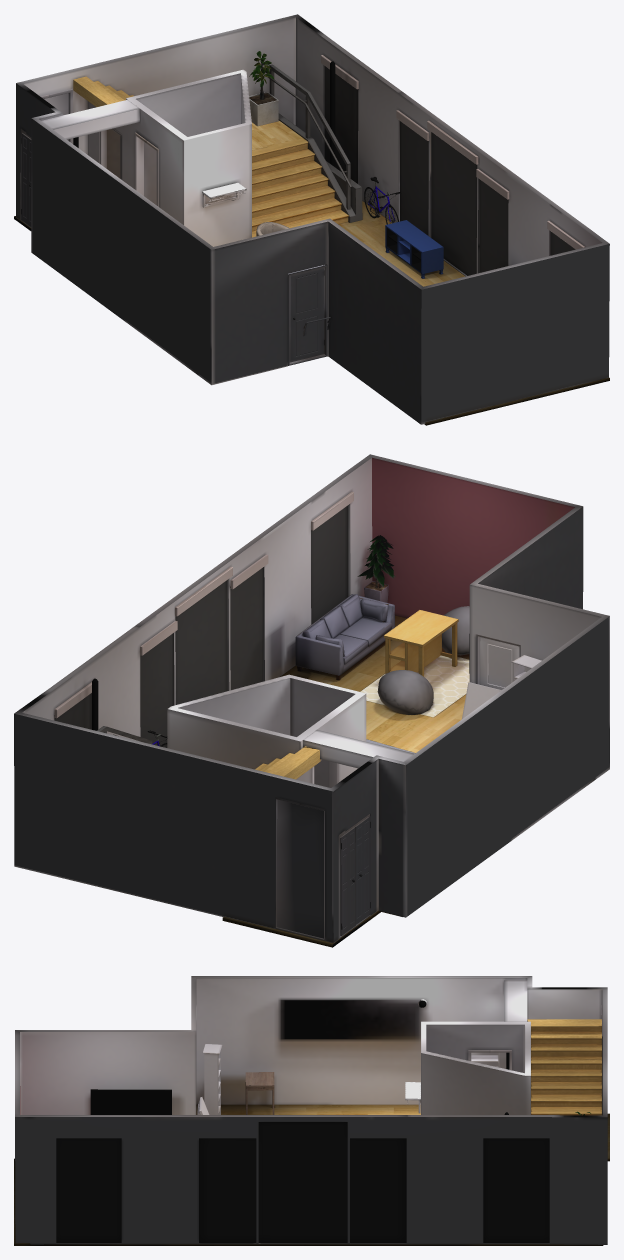
File: google_pick_coke_can_1_v4_no_roof.glb
The picture shows the model from 3 angles, top to bottom: view 1: azimuth 30°, elevation 25°; view 2: azimuth 150°, elevation 25°; view 3: azimuth 270°, elevation 25°; orthographic projection. The views are drawn at different scales.
Parts seen in each view (by area): view 1: frl_apartment_wall_arch.001, frl_apartment_blinds, frl_apartment_stair, frl_apartment_door_01, frl_apartment_floor, frl_apartment_tvstand, frl_apartment_indoor_plant_01, frl_apartment_door_05, frl_apartment_door_part_03, frl_apartment_door_part_04, frl_apartment_clothes_hanger_02, frl_apartment_bike_01 (+1 smaller); view 2: frl_apartment_wall_arch.001, frl_apartment_blinds, frl_apartment_door_04, frl_apartment_floor, frl_apartment_sofa, frl_apartment_table_02, frl_apartment_rug_01, frl_apartment_beanbag_01, frl_apartment_door_01, frl_apartment_door_05, frl_apartment_door_06, frl_apartment_stair (+3 smaller); view 3: frl_apartment_wall_arch.001, frl_apartment_blinds, frl_apartment_stair, frl_apartment_floor, frl_apartment_tv_screen, frl_apartment_wall_cabinet_01, frl_apartment_table_01.
Part boxes in pixels (x1,y1,x2,y2): frl_apartment_wall_arch.001: (16,14,609,424); frl_apartment_blinds: (321,55,584,275); frl_apartment_stair: (73,64,362,237); frl_apartment_door_01: (289,267,324,362); frl_apartment_floor: (14,201,609,425); frl_apartment_tvstand: (385,220,443,278); frl_apartment_indoor_plant_01: (249,51,278,126); frl_apartment_door_05: (21,133,31,226); frl_apartment_door_part_03: (288,264,327,365); frl_apartment_door_part_04: (135,132,158,206); frl_apartment_clothes_hanger_02: (202,182,246,207); frl_apartment_bike_01: (364,177,401,224); frl_apartment_wall_arch.001: (14,454,609,943); frl_apartment_blinds: (54,492,353,747); frl_apartment_door_04: (277,799,324,938); frl_apartment_floor: (222,615,469,947); frl_apartment_sofa: (295,594,394,680); frl_apartment_table_02: (384,610,458,676); frl_apartment_rug_01: (360,655,469,717); frl_apartment_beanbag_01: (377,670,433,714); frl_apartment_door_01: (480,637,519,689); frl_apartment_door_05: (340,827,355,935); frl_apartment_door_06: (355,816,370,924); frl_apartment_stair: (97,726,320,779); frl_apartment_wall_arch.001: (15,976,607,1244); frl_apartment_blinds: (56,1122,549,1242); frl_apartment_stair: (527,1019,601,1115); frl_apartment_floor: (14,1104,609,1245); frl_apartment_tv_screen: (90,1089,171,1114); frl_apartment_wall_cabinet_01: (203,1044,222,1114); frl_apartment_table_01: (245,1072,274,1114).
Size of the model in its own units: 7.26 by 3.2 by 12.93.
1 material, 1 textured.
